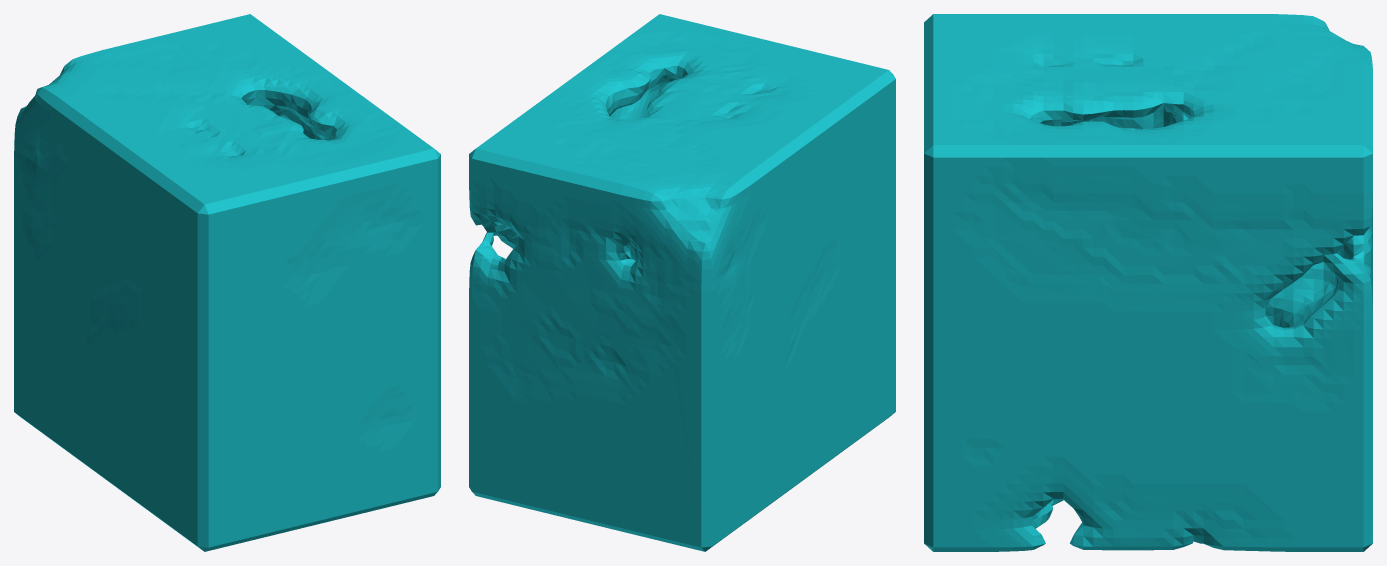
The picture shows the model from 3 angles, left to right: view 1: azimuth 30°, elevation 25°; view 2: azimuth 150°, elevation 25°; view 3: azimuth 270°, elevation 25°; orthographic projection. The views are drawn at different scales.
Visible parts, largest first — view 1: Liquid_Domain; view 2: Liquid_Domain; view 3: Liquid_Domain.
Boxes of the visible parts, box(x1,y1,x2,y2) form: Liquid_Domain: box(14, 14, 440, 551); Liquid_Domain: box(469, 14, 895, 551); Liquid_Domain: box(924, 14, 1372, 551).
Size of the model in its own units: 79.09 by 108 by 108.
